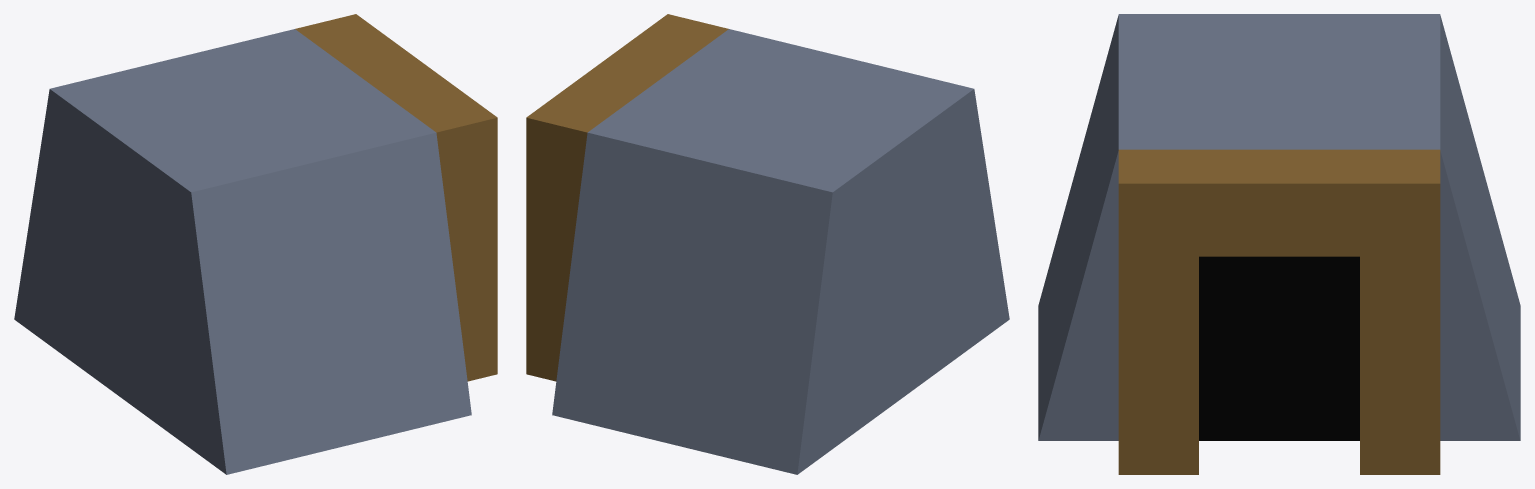
The model's file is vault.obj.
3 renders of one model, left to right at view 1: azimuth 30°, elevation 25°; view 2: azimuth 150°, elevation 25°; view 3: azimuth 270°, elevation 25°, orthographic. The views are drawn at different scales.
Parts seen in each view (by area): view 1: cuboid; view 2: cuboid; view 3: cuboid.
Part boxes in pixels (x1,y1,x2,y2): cuboid: [14, 14, 497, 474]; cuboid: [526, 14, 1009, 474]; cuboid: [1038, 14, 1520, 474].
Size of the model in its own units: 0.625 by 0.5 by 0.75.
Materials: 1 (1 with a texture image).
